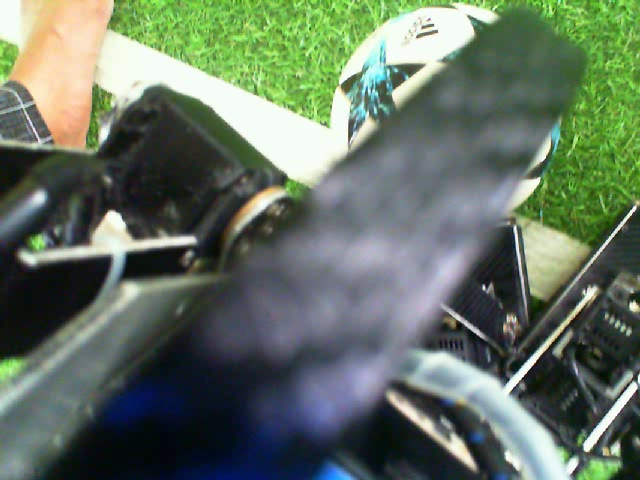ball: (327, 1, 503, 173)
